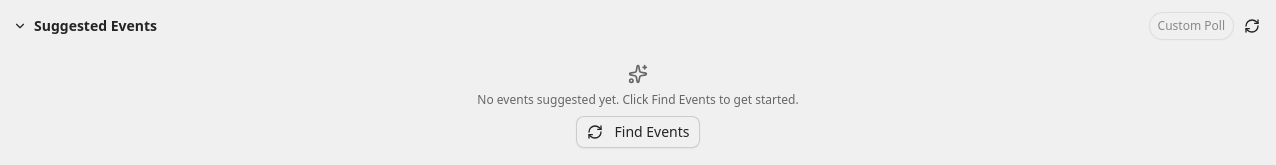
Test: shows a clear empty state for an unmatched location search
The image size is (1276, 165).
Click the button "Find Events" at (638, 132), box [576,116,700,148]
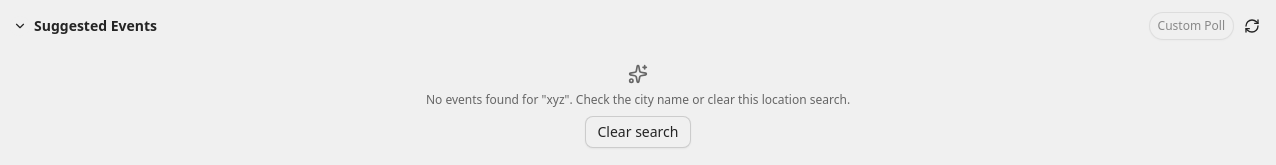
Expected: the text "No events found for \"xyz\"" is shown, [426,92,850,108]
Expected: the text "clear this location search" is shown, [565,91,850,108]
Expected: the button "Clear search" is shown, [584,116,692,148]
